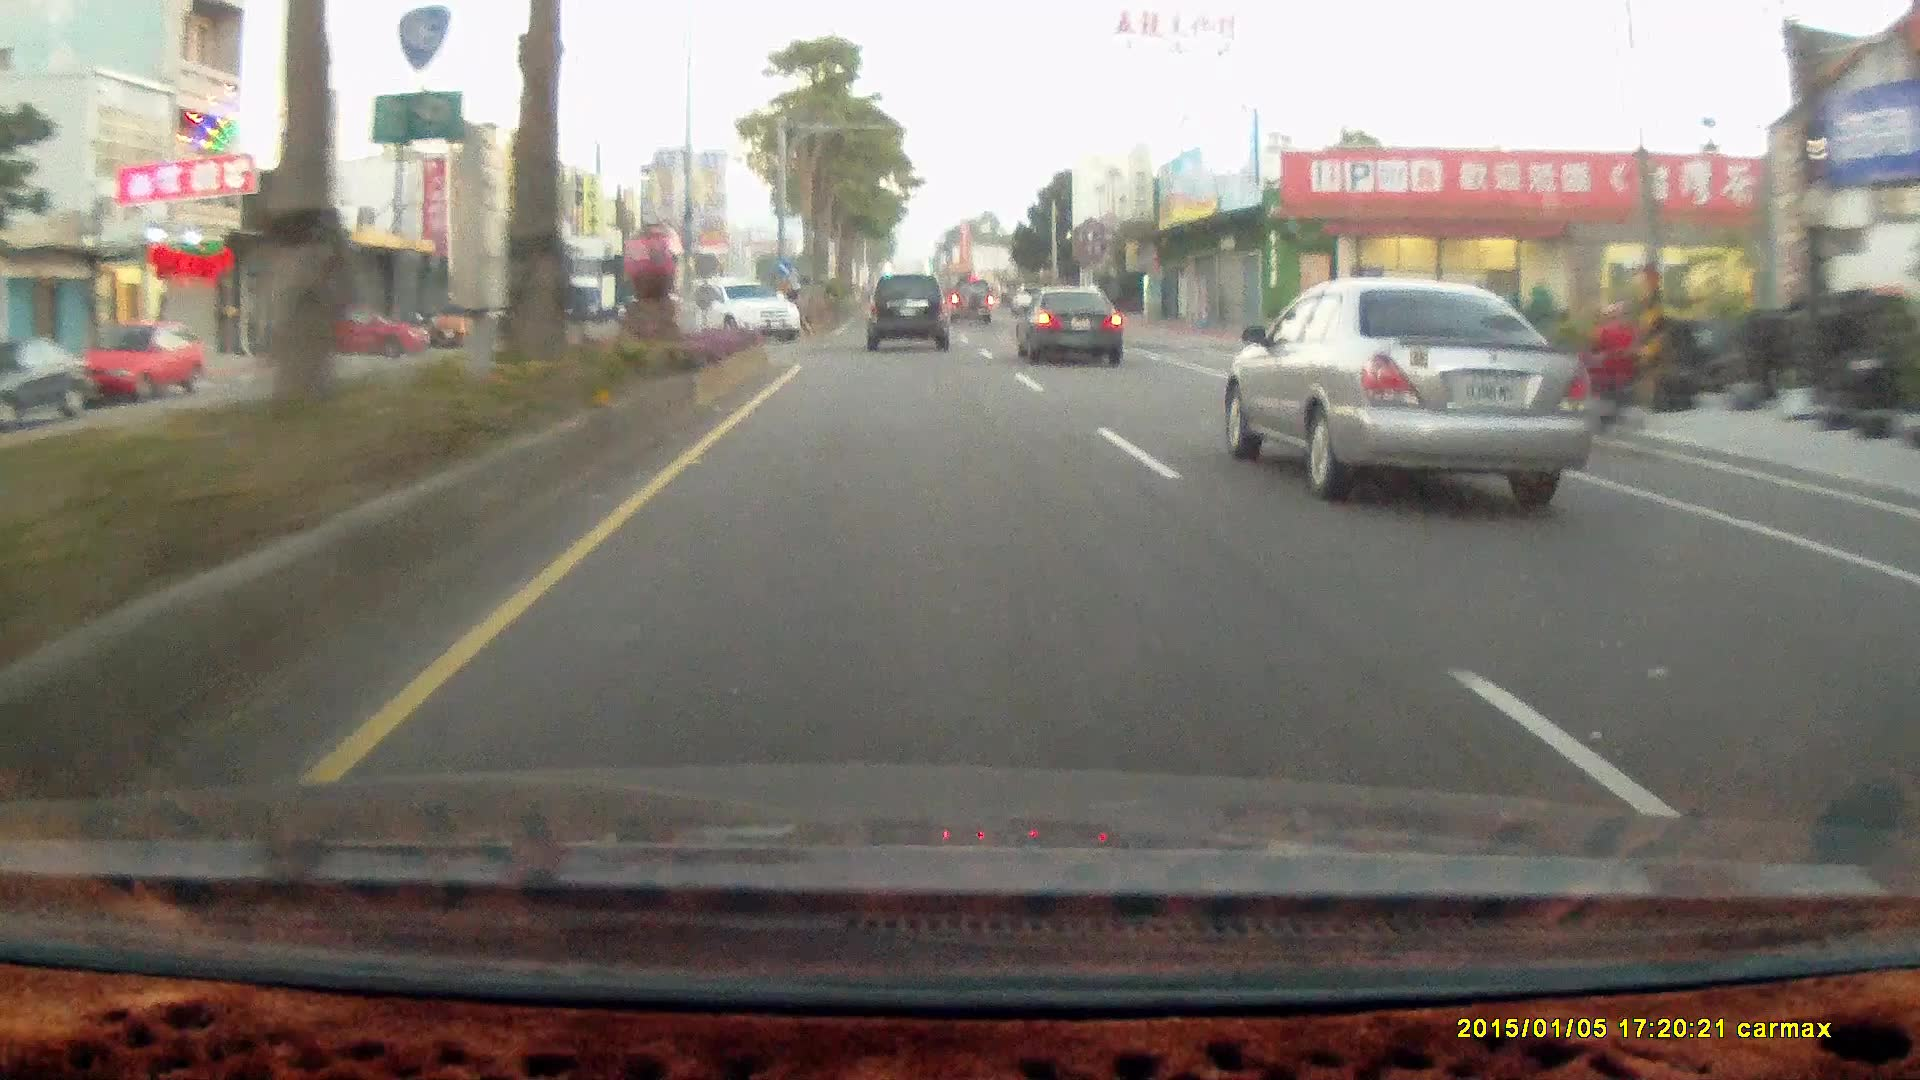pedestrian: (1589, 298, 1646, 449), (1586, 299, 1644, 440)
vehicle: (1238, 280, 1593, 504), (78, 323, 206, 402), (78, 324, 206, 402), (1012, 285, 1128, 370), (281, 306, 435, 365), (278, 301, 432, 359), (1012, 285, 1121, 365), (0, 336, 85, 432), (681, 278, 801, 344), (867, 276, 957, 354), (703, 281, 805, 348), (864, 272, 947, 350), (947, 283, 995, 332), (947, 277, 995, 326)
